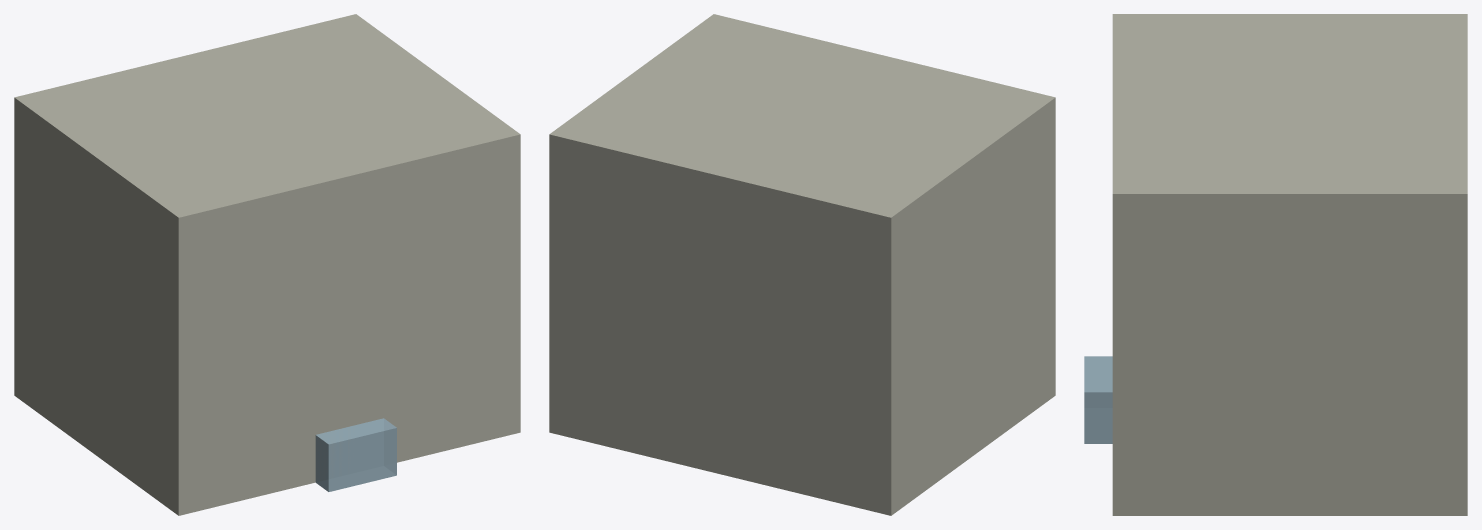
The model's file is office_building_01.obj.
The picture shows the model from 3 angles, left to right: view 1: azimuth 30°, elevation 25°; view 2: azimuth 150°, elevation 25°; view 3: azimuth 270°, elevation 25°; orthographic projection. The views are drawn at different scales.
Parts seen in each view (by area): view 1: OfficeBuilding01; view 2: OfficeBuilding01; view 3: OfficeBuilding01.
Boxes of the visible parts, x1,y1,x2,y2 form: OfficeBuilding01: (14,14,520,515); OfficeBuilding01: (549,14,1055,515); OfficeBuilding01: (1084,14,1467,515).
Size of the model in its own units: 30 by 25 by 27.
